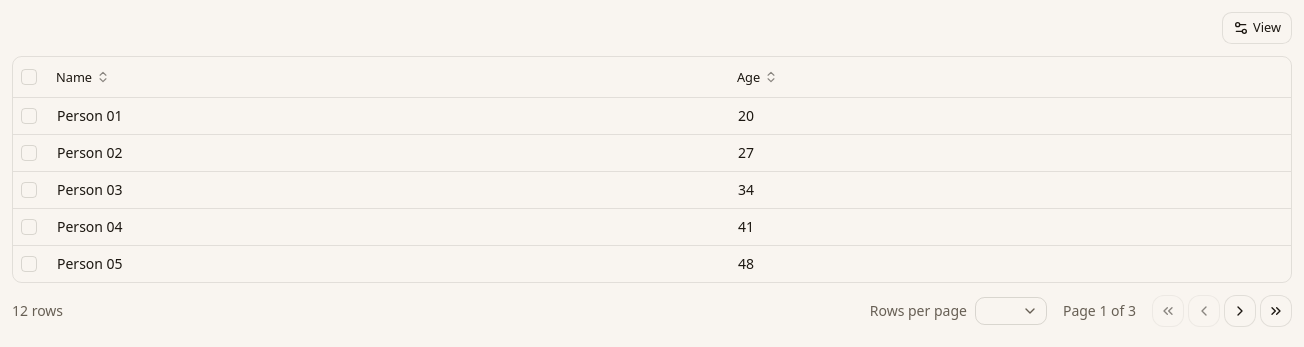
Test: DataTable › paginates at pageSize and navigates
Expected: the text "Page 1 of 3" is shown, [1063,300,1136,320]
Click the button named "next page": (1240, 310) [1224,294,1256,326]
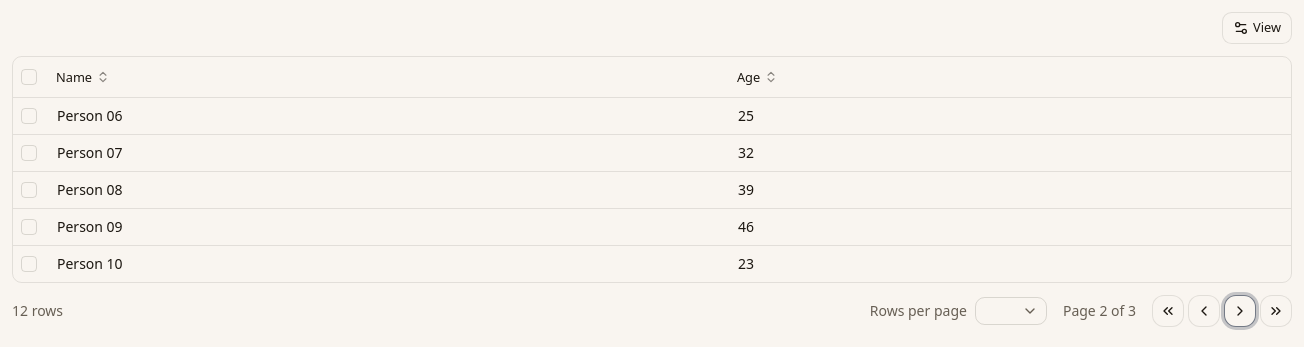
Expected: the text "Page 2 of 3" is shown, [1063,300,1136,320]
